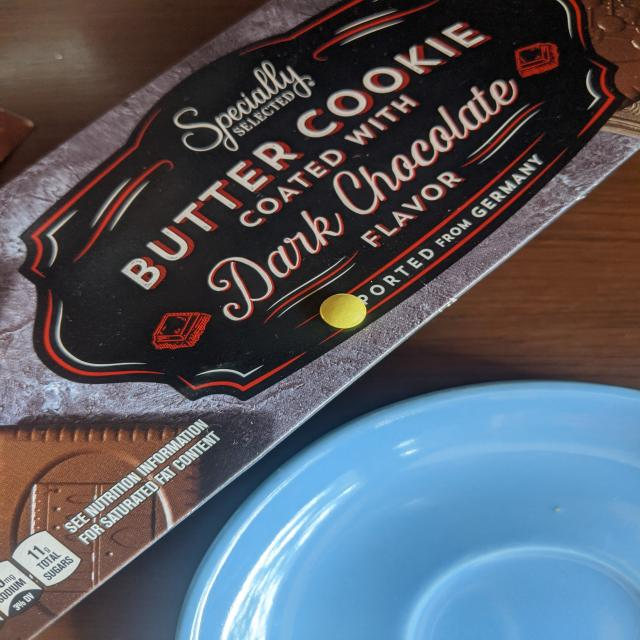non-organic waste: (319, 292, 367, 328)
